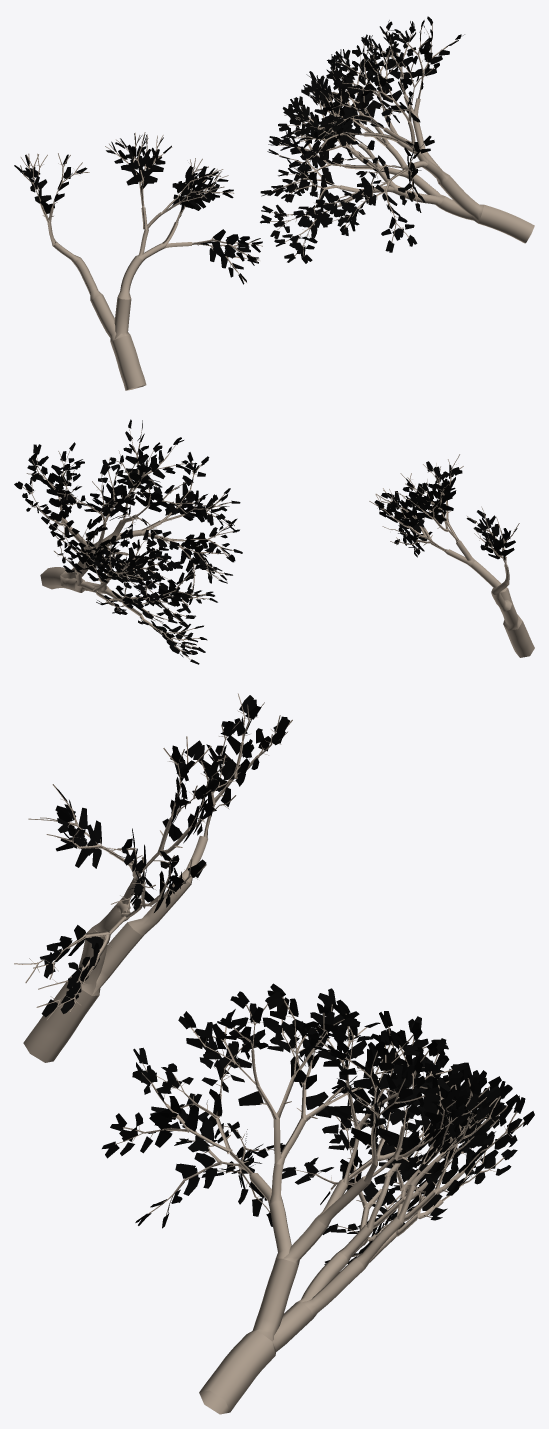
Rendered from TreesWithLeaves.fbx.
The picture shows the model from 3 angles, top to bottom: view 1: azimuth 30°, elevation 25°; view 2: azimuth 150°, elevation 25°; view 3: azimuth 270°, elevation 25°; orthographic projection. The views are drawn at different scales.
Parts seen in each view (by area): view 1: treeLeafy4Leaf, treeLeafy4Main, treeLeafy5Main, treeLeafy5Leaf; view 2: treeLeafy4Leaf, treeLeafy4Main, treeLeafy5Leaf, treeLeafy5Main; view 3: treeLeafy4Leaf, treeLeafy4Main, treeLeafy5Main, treeLeafy5Leaf.
Boxes of the visible parts, <box> form: treeLeafy4Leaf: <box>260,16,464,263</box>; treeLeafy4Main: <box>269,23,534,256</box>; treeLeafy5Main: <box>20,132,262,390</box>; treeLeafy5Leaf: <box>14,133,262,284</box>; treeLeafy4Leaf: <box>14,419,242,664</box>; treeLeafy4Main: <box>22,428,233,659</box>; treeLeafy5Leaf: <box>374,461,517,560</box>; treeLeafy5Main: <box>369,454,534,657</box>; treeLeafy4Leaf: <box>102,983,534,1264</box>; treeLeafy4Main: <box>115,997,524,1414</box>; treeLeafy5Main: <box>14,693,292,1062</box>; treeLeafy5Leaf: <box>40,695,289,1017</box>.
Size of the model in its own units: 3.35 by 1.36 by 1.8.
